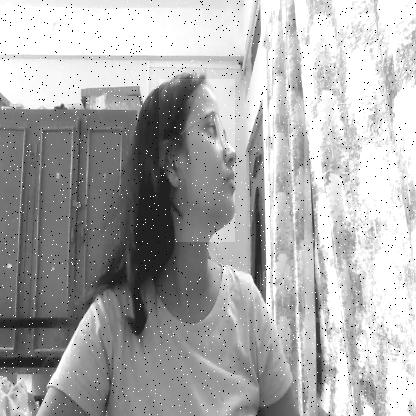Distracted: (159, 79, 235, 242)
